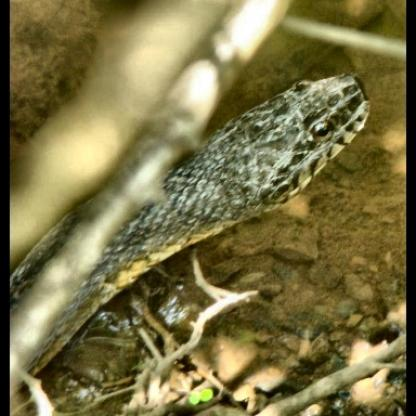Snake: (14, 20, 394, 416)
